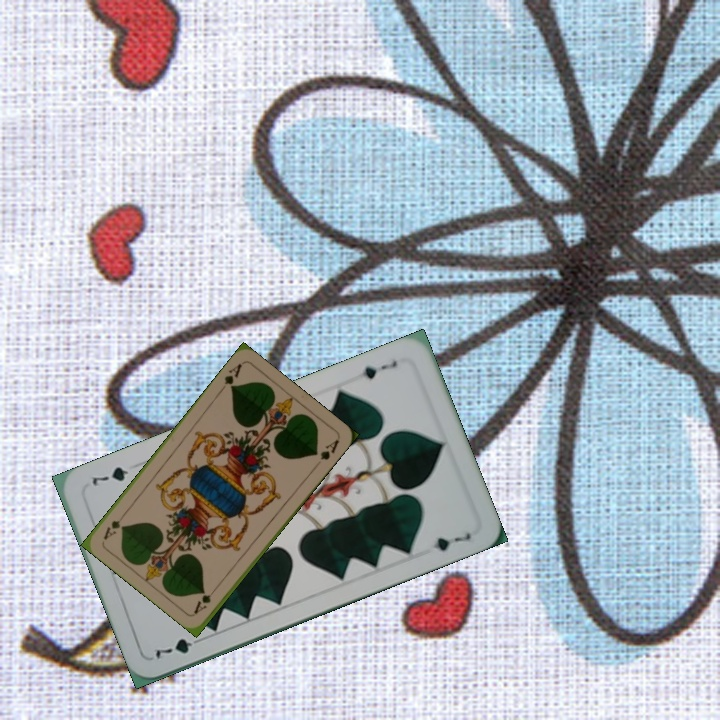G7: (149, 633, 207, 662), (358, 356, 400, 382)
GA: (190, 582, 221, 616), (216, 359, 245, 395)
